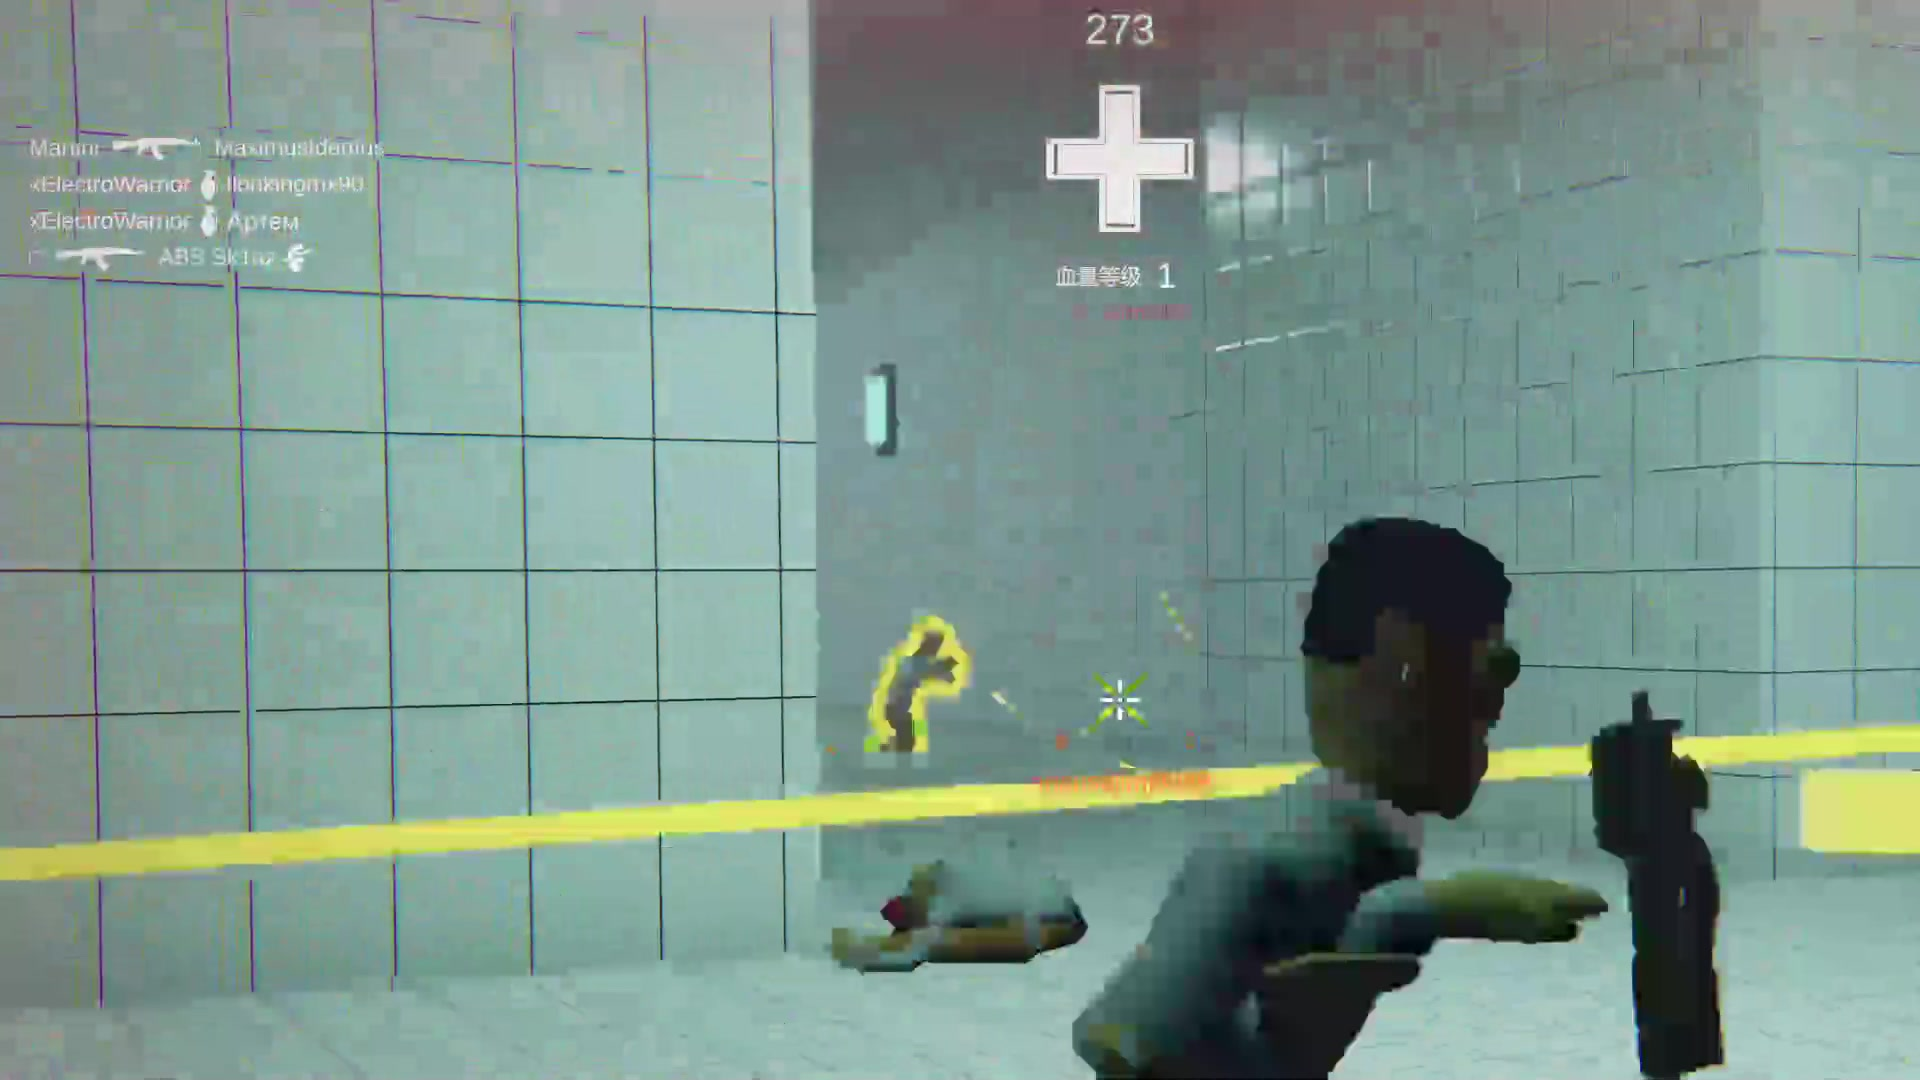human: (1062, 523, 1629, 1080), (840, 608, 993, 772)
